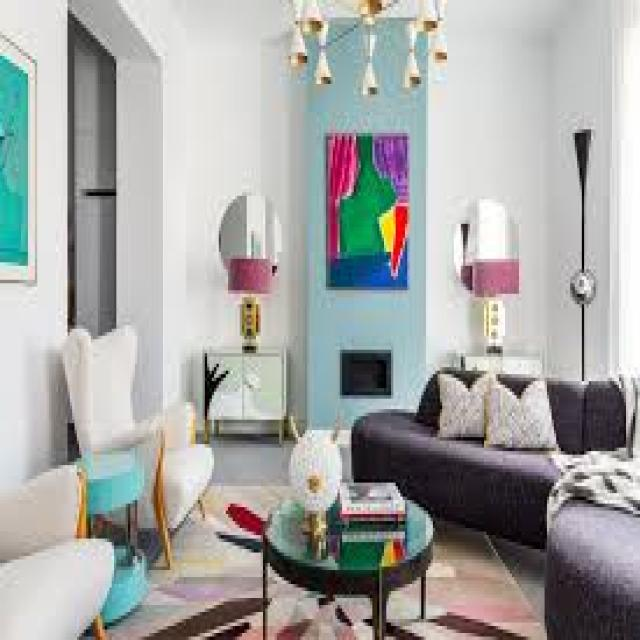Chair: (55, 315, 208, 549), (0, 440, 116, 636)
Lamp: (273, 1, 455, 88), (460, 224, 528, 357), (224, 238, 276, 345)
Sofa: (348, 354, 640, 526)
Table: (263, 463, 435, 638)
